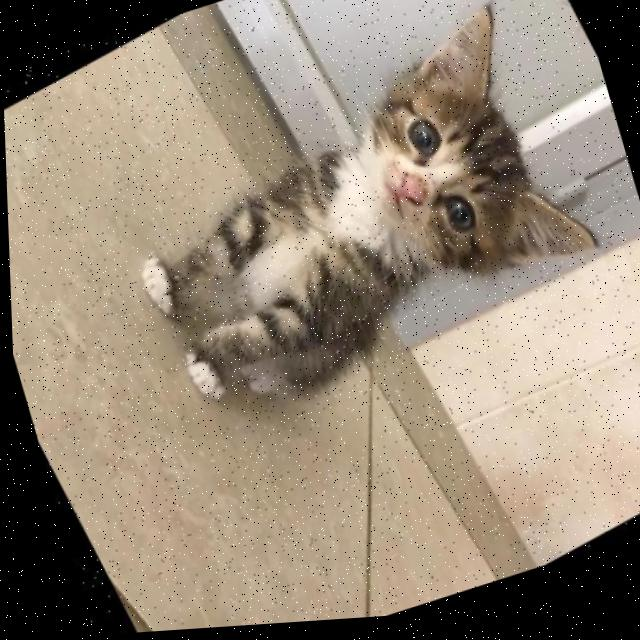Cats: (16, 0, 640, 575)
